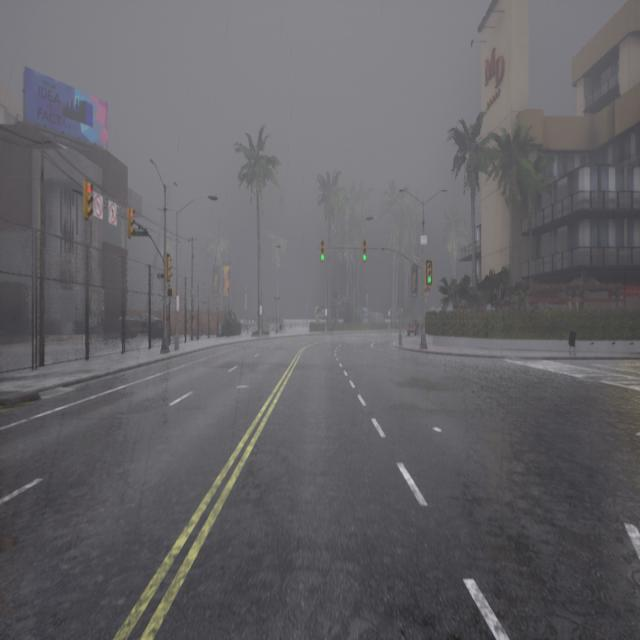6: (87, 184, 92, 194), (129, 212, 134, 217), (167, 259, 171, 265)
9: (84, 181, 92, 219), (128, 206, 135, 237), (426, 260, 433, 286), (167, 252, 172, 282), (362, 238, 367, 264), (320, 237, 325, 263)
bien_hieu_lenh: (363, 253, 367, 262), (320, 253, 324, 261), (428, 276, 432, 283)
